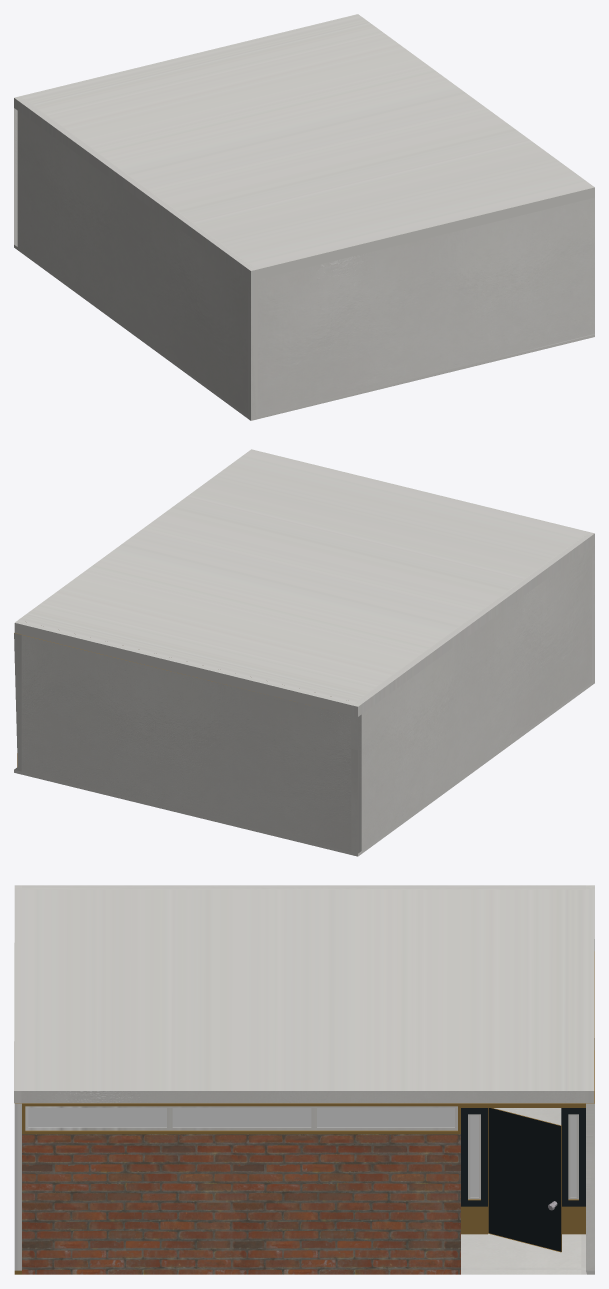
File: finalsalfinal.fbx
3 renders of one model, top to bottom at view 1: azimuth 30°, elevation 25°; view 2: azimuth 150°, elevation 25°; view 3: azimuth 270°, elevation 25°, orthographic. The views are drawn at different scales.
Visible parts, largest first — view 1: Cube; view 2: Cube; view 3: Cube.
Part boxes in pixels (x1=…): Cube: x1=14, y1=14, x2=594, y2=420; Cube: x1=14, y1=449, x2=594, y2=856; Cube: x1=14, y1=885, x2=594, y2=1274.
Size of the model in its own units: 1398 by 582 by 1669.
12 materials, 3 textured.
